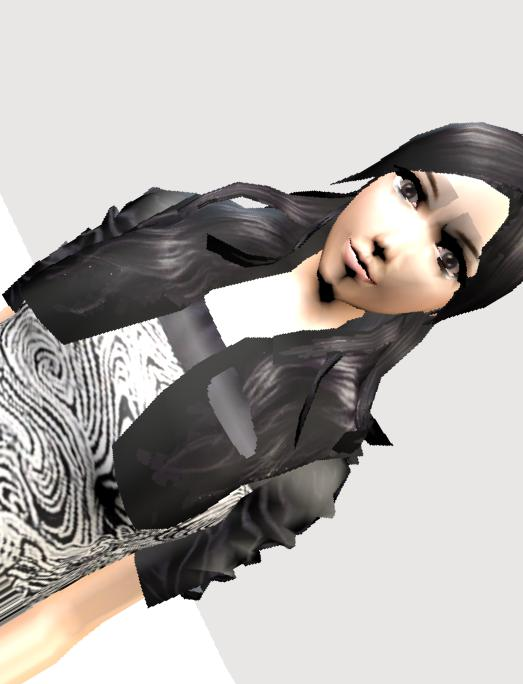clip: (207, 368, 261, 421)
